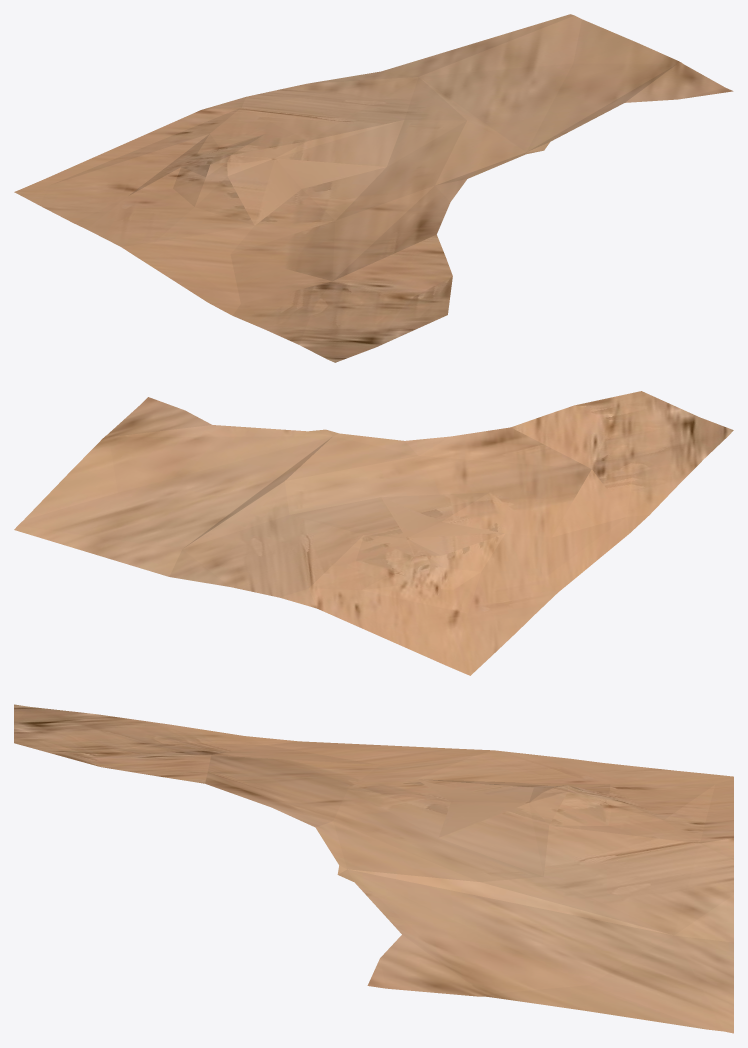
3 views of the same model, one above another, from view 1: azimuth 30°, elevation 25°; view 2: azimuth 150°, elevation 25°; view 3: azimuth 270°, elevation 25° (orthographic). The views are drawn at different scales.
Size of the model in its own units: 1.04 by 0.1519 by 1.04.
2 materials, 2 textured.
